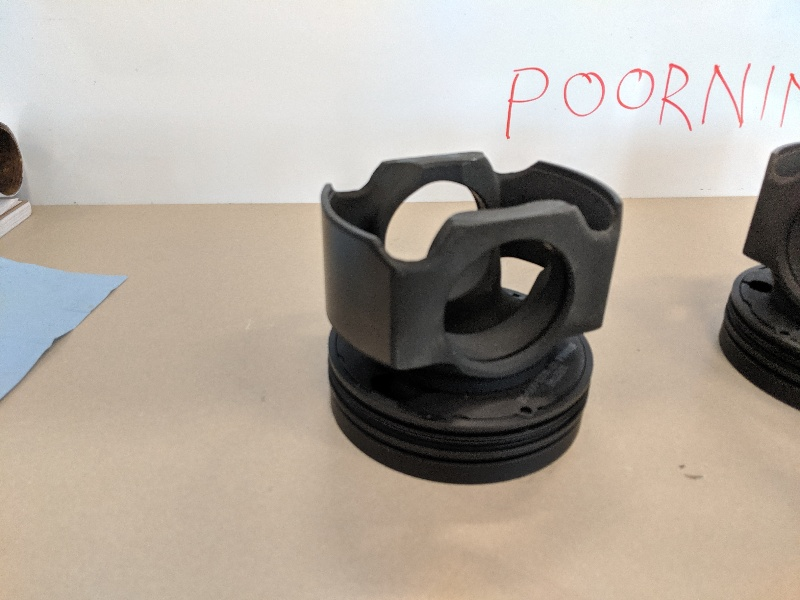piston: (310, 141, 627, 492)
